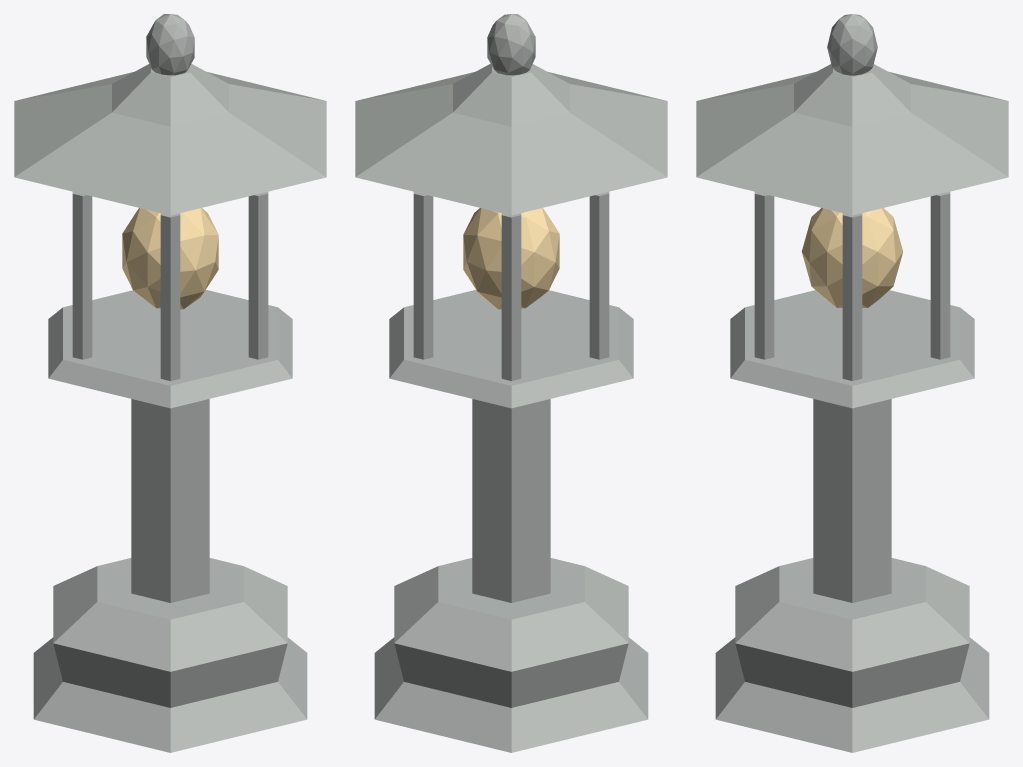
File: prop_moon_lamp.glb
3 views of the same model, side by side, from view 1: azimuth 30°, elevation 25°; view 2: azimuth 150°, elevation 25°; view 3: azimuth 270°, elevation 25° (orthographic).
Visible parts, largest first — view 1: prop_moon_lamp/moon_lamp_base_00000, prop_moon_lamp/moon_lamp_umbrella_roof_00010, prop_moon_lamp/moon_lamp_mid_plinth_00002, prop_moon_lamp/moon_lamp_pillar_00001, prop_moon_lamp/lamp_warm_core_00009, prop_moon_lamp/lamp_post_00007, prop_moon_lamp/lamp_post_00006, prop_moon_lamp/lamp_post_00008, prop_moon_lamp/moon_lamp_finial_jewel_00011; view 2: prop_moon_lamp/moon_lamp_base_00000, prop_moon_lamp/moon_lamp_umbrella_roof_00010, prop_moon_lamp/moon_lamp_mid_plinth_00002, prop_moon_lamp/moon_lamp_pillar_00001, prop_moon_lamp/lamp_warm_core_00009, prop_moon_lamp/lamp_post_00005, prop_moon_lamp/lamp_post_00004, prop_moon_lamp/lamp_post_00006, prop_moon_lamp/moon_lamp_finial_jewel_00011; view 3: prop_moon_lamp/moon_lamp_base_00000, prop_moon_lamp/moon_lamp_umbrella_roof_00010, prop_moon_lamp/moon_lamp_mid_plinth_00002, prop_moon_lamp/moon_lamp_pillar_00001, prop_moon_lamp/lamp_warm_core_00009, prop_moon_lamp/lamp_post_00003, prop_moon_lamp/lamp_post_00004, prop_moon_lamp/lamp_post_00008, prop_moon_lamp/moon_lamp_finial_jewel_00011.
Part boxes in pixels (left/top/right/bottom): prop_moon_lamp/moon_lamp_base_00000: left=33, top=558, right=307, bottom=752; prop_moon_lamp/moon_lamp_umbrella_roof_00010: left=14, top=64, right=326, bottom=215; prop_moon_lamp/moon_lamp_mid_plinth_00002: left=48, top=290, right=292, bottom=408; prop_moon_lamp/moon_lamp_pillar_00001: left=131, top=399, right=209, bottom=602; prop_moon_lamp/lamp_warm_core_00009: left=122, top=208, right=218, bottom=309; prop_moon_lamp/lamp_post_00007: left=160, top=213, right=180, bottom=380; prop_moon_lamp/lamp_post_00006: left=72, top=192, right=92, bottom=359; prop_moon_lamp/lamp_post_00008: left=248, top=192, right=268, bottom=359; prop_moon_lamp/moon_lamp_finial_jewel_00011: left=146, top=14, right=194, bottom=75; prop_moon_lamp/moon_lamp_base_00000: left=374, top=558, right=648, bottom=752; prop_moon_lamp/moon_lamp_umbrella_roof_00010: left=355, top=64, right=667, bottom=215; prop_moon_lamp/moon_lamp_mid_plinth_00002: left=389, top=290, right=633, bottom=408; prop_moon_lamp/moon_lamp_pillar_00001: left=472, top=399, right=550, bottom=602; prop_moon_lamp/lamp_warm_core_00009: left=463, top=208, right=559, bottom=309; prop_moon_lamp/lamp_post_00005: left=501, top=213, right=521, bottom=380; prop_moon_lamp/lamp_post_00004: left=413, top=192, right=433, bottom=359; prop_moon_lamp/lamp_post_00006: left=589, top=192, right=609, bottom=359; prop_moon_lamp/moon_lamp_finial_jewel_00011: left=487, top=14, right=535, bottom=75; prop_moon_lamp/moon_lamp_base_00000: left=715, top=558, right=989, bottom=752; prop_moon_lamp/moon_lamp_umbrella_roof_00010: left=696, top=64, right=1008, bottom=215; prop_moon_lamp/moon_lamp_mid_plinth_00002: left=730, top=290, right=974, bottom=408; prop_moon_lamp/moon_lamp_pillar_00001: left=813, top=399, right=891, bottom=602; prop_moon_lamp/lamp_warm_core_00009: left=801, top=208, right=903, bottom=307; prop_moon_lamp/lamp_post_00003: left=842, top=213, right=862, bottom=380; prop_moon_lamp/lamp_post_00004: left=930, top=192, right=950, bottom=359; prop_moon_lamp/lamp_post_00008: left=754, top=192, right=774, bottom=359; prop_moon_lamp/moon_lamp_finial_jewel_00011: left=827, top=14, right=877, bottom=75.
Bounding box in the file's own units: 0.64 × 1.36 × 0.5543.
